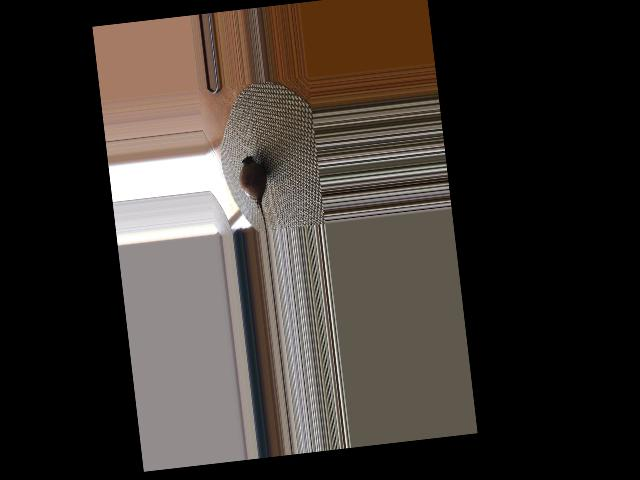beet: (236, 154, 272, 232)
